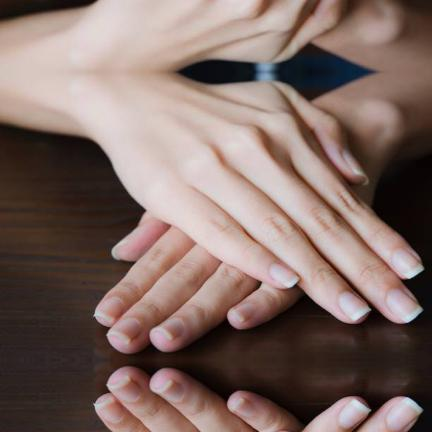Nail: (386, 287, 424, 325), (386, 395, 424, 432), (391, 248, 425, 279), (340, 292, 372, 322), (340, 149, 370, 181), (340, 398, 372, 428), (94, 297, 125, 327), (94, 393, 125, 423), (269, 262, 301, 290), (108, 318, 141, 345), (108, 375, 141, 402), (152, 319, 184, 341), (152, 379, 184, 401), (231, 302, 257, 323), (231, 397, 257, 418), (287, 430, 292, 432)
